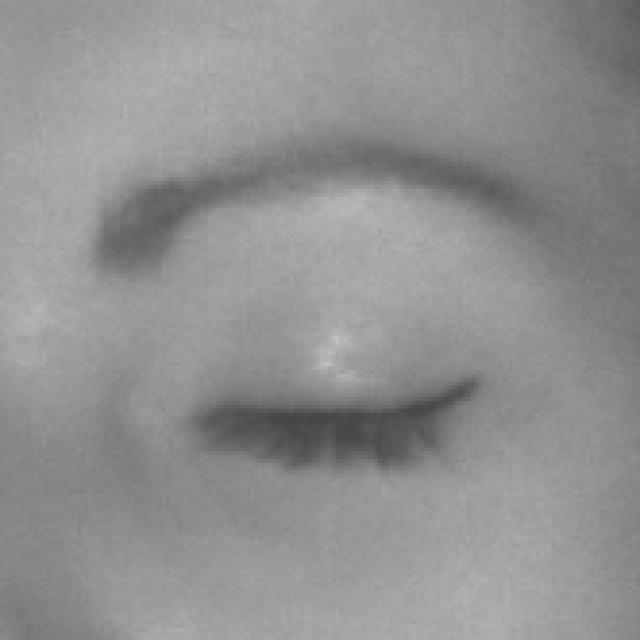close: (46, 80, 588, 548)
